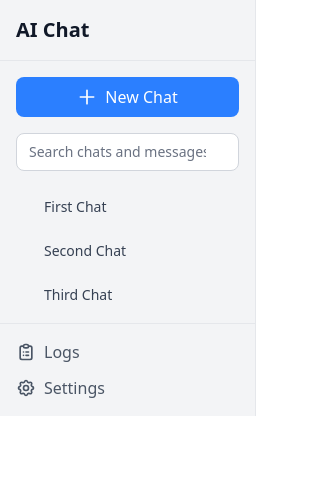
Test: ChatSidebar › selection mode behavior › updates count when selecting multiple chats
The width and height of the screenshot is (320, 486).
Click the link "First Chat". click: point(75, 206)
box: [44,197,106,216]
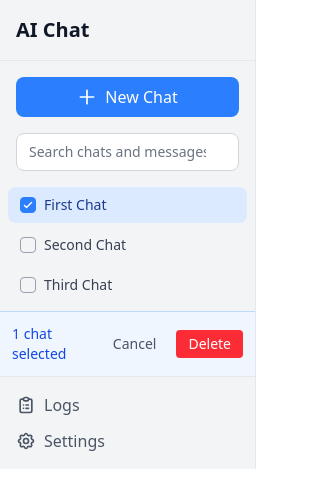
Click the link "Second Chat". click: point(73, 244)
box: [20,235,126,254]
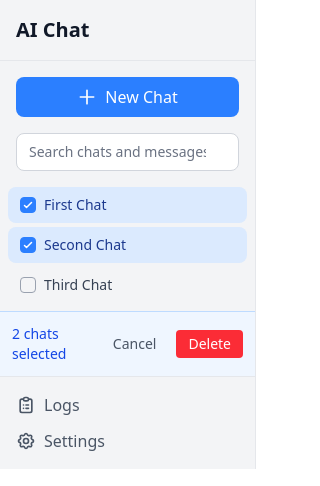
Expected: the text "2 chats selected" is shown, [12,324,66,363]
